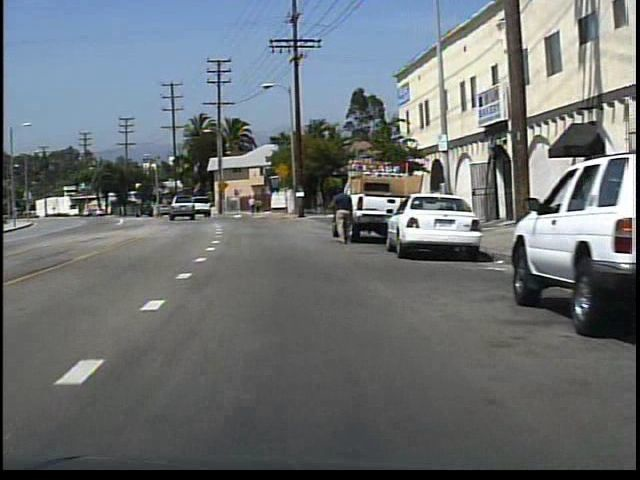person: (329, 185, 355, 247), (247, 195, 257, 217), (255, 197, 265, 215)
